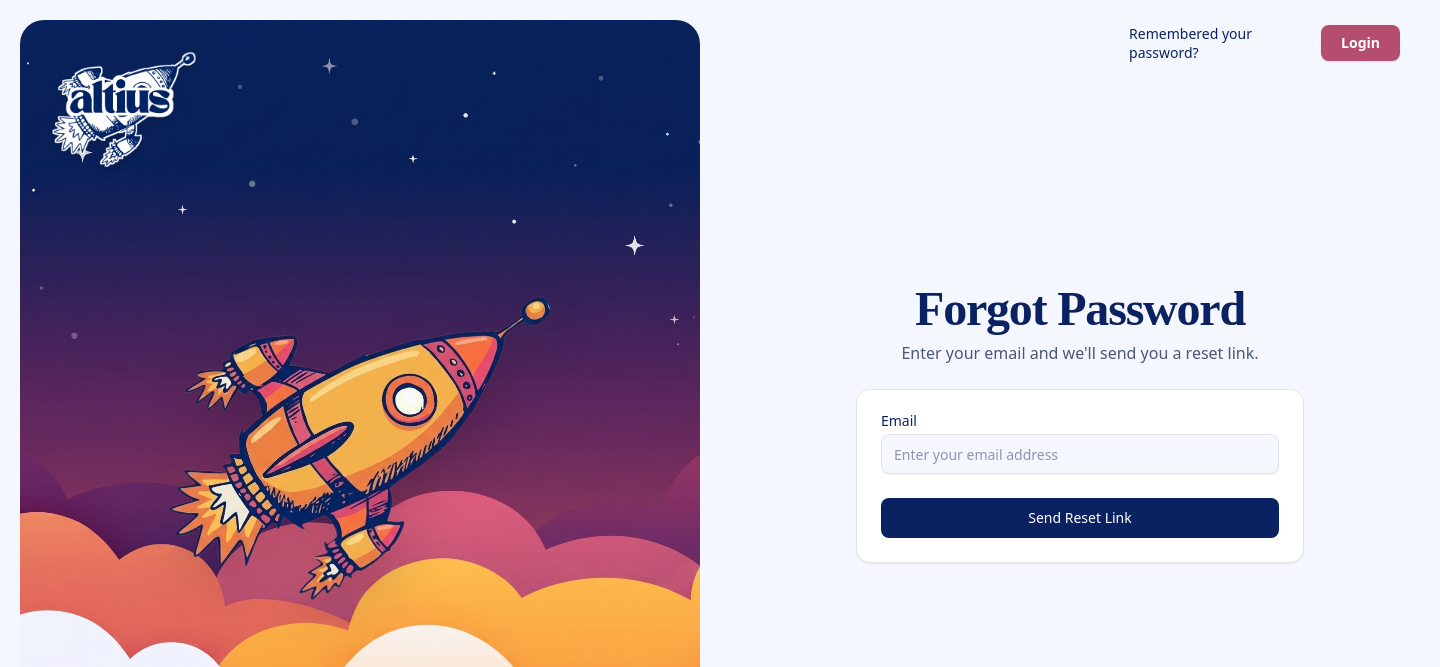
Test case: ForgotPasswordPage & ResetPasswordPage › validates email and submits POST /auth/forgot-password
Click the button "Send Reset Link" at (1080,518), box [881,498,1279,538]
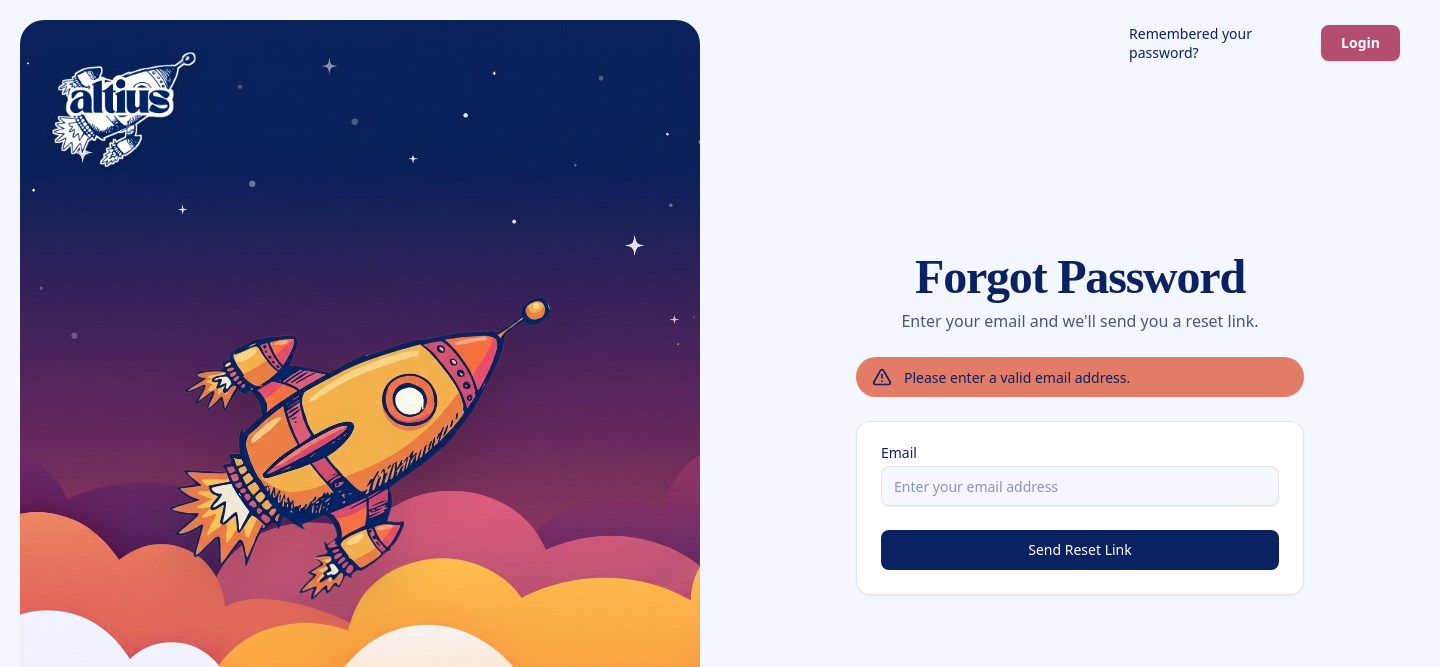
Now the text "Please enter a valid email address." is shown, box [904,368,1130,387]
Type "alice@weston.ac.uk" into the field labelled "Email" at (1080,486), box [881,466,1279,506]
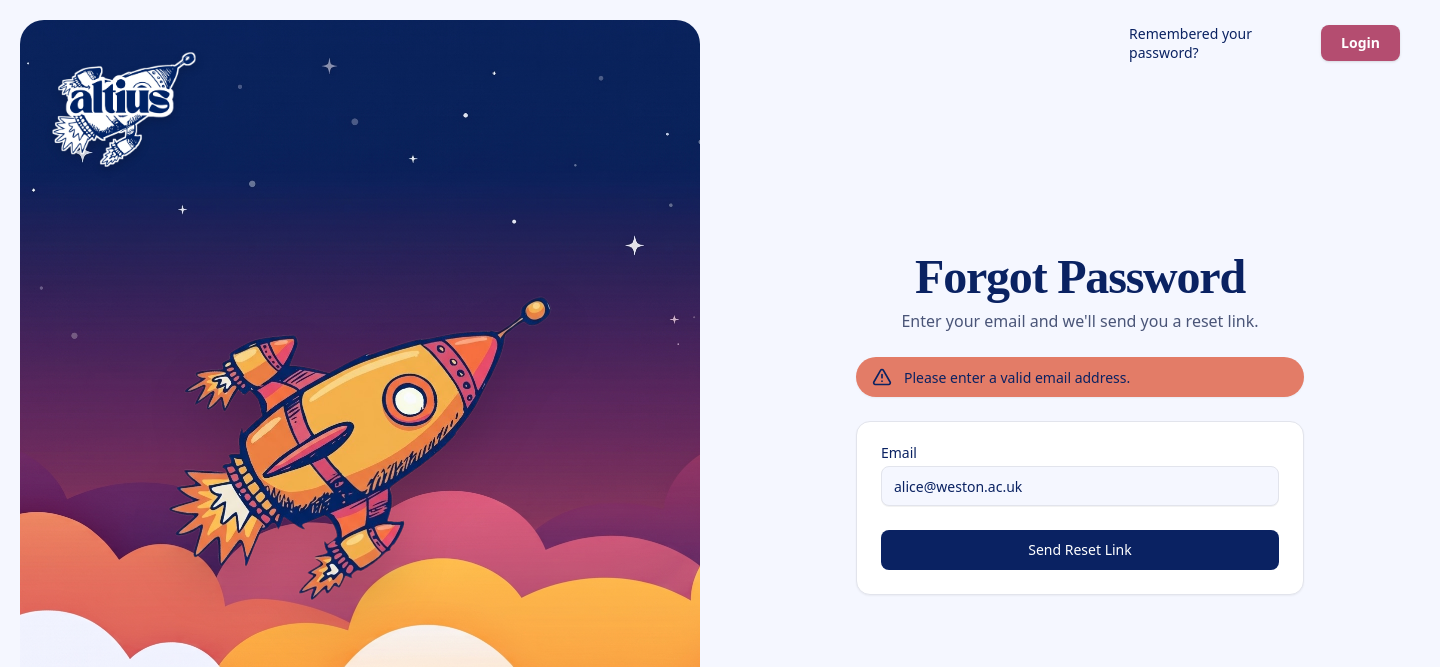
Click the button "Send Reset Link" at (1080,550), box [881,530,1279,570]
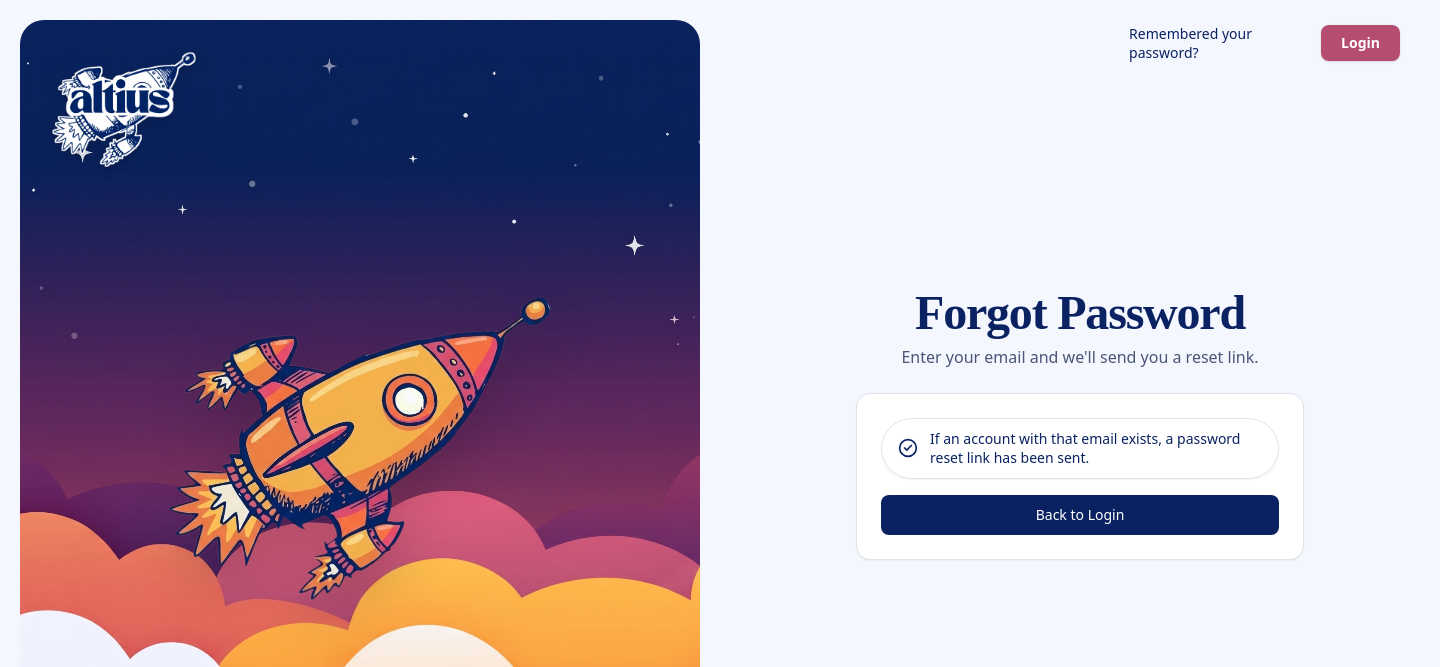
Now the text "If an account with that email exists, a password reset link has been sent." is shown, box [930,429,1262,468]
Now the link "Back to Login" is shown, box [881,494,1279,534]
